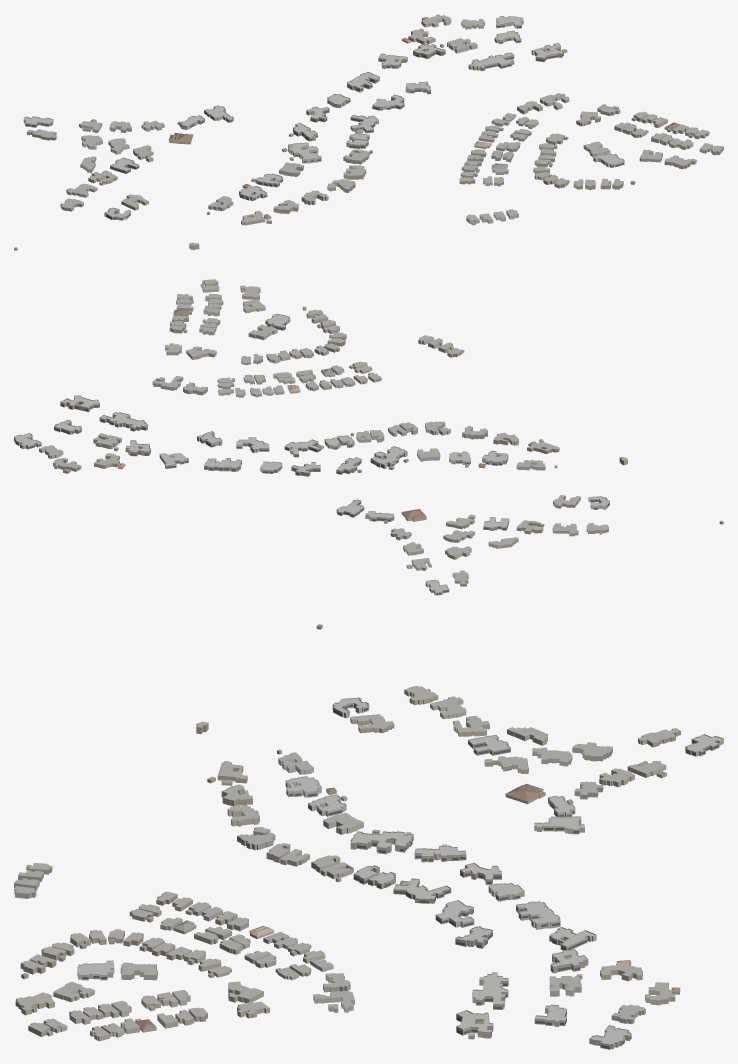
Rendered from buildings_r6_c1.glb.
The picture shows the model from 3 angles, top to bottom: view 1: azimuth 30°, elevation 25°; view 2: azimuth 150°, elevation 25°; view 3: azimuth 270°, elevation 25°; orthographic projection. The views are drawn at different scales.
Parts seen in each view (by area): view 1: buildings_r6_c1; view 2: buildings_r6_c1; view 3: buildings_r6_c1.
Part boxes in pixels (left/top/right/bottom): buildings_r6_c1: left=14, top=14, right=723, bottom=250; buildings_r6_c1: left=14, top=279, right=723, bottom=595; buildings_r6_c1: left=14, top=624, right=723, bottom=1049.
Bounding box in the file's own units: 1135 × 53.03 × 768.
